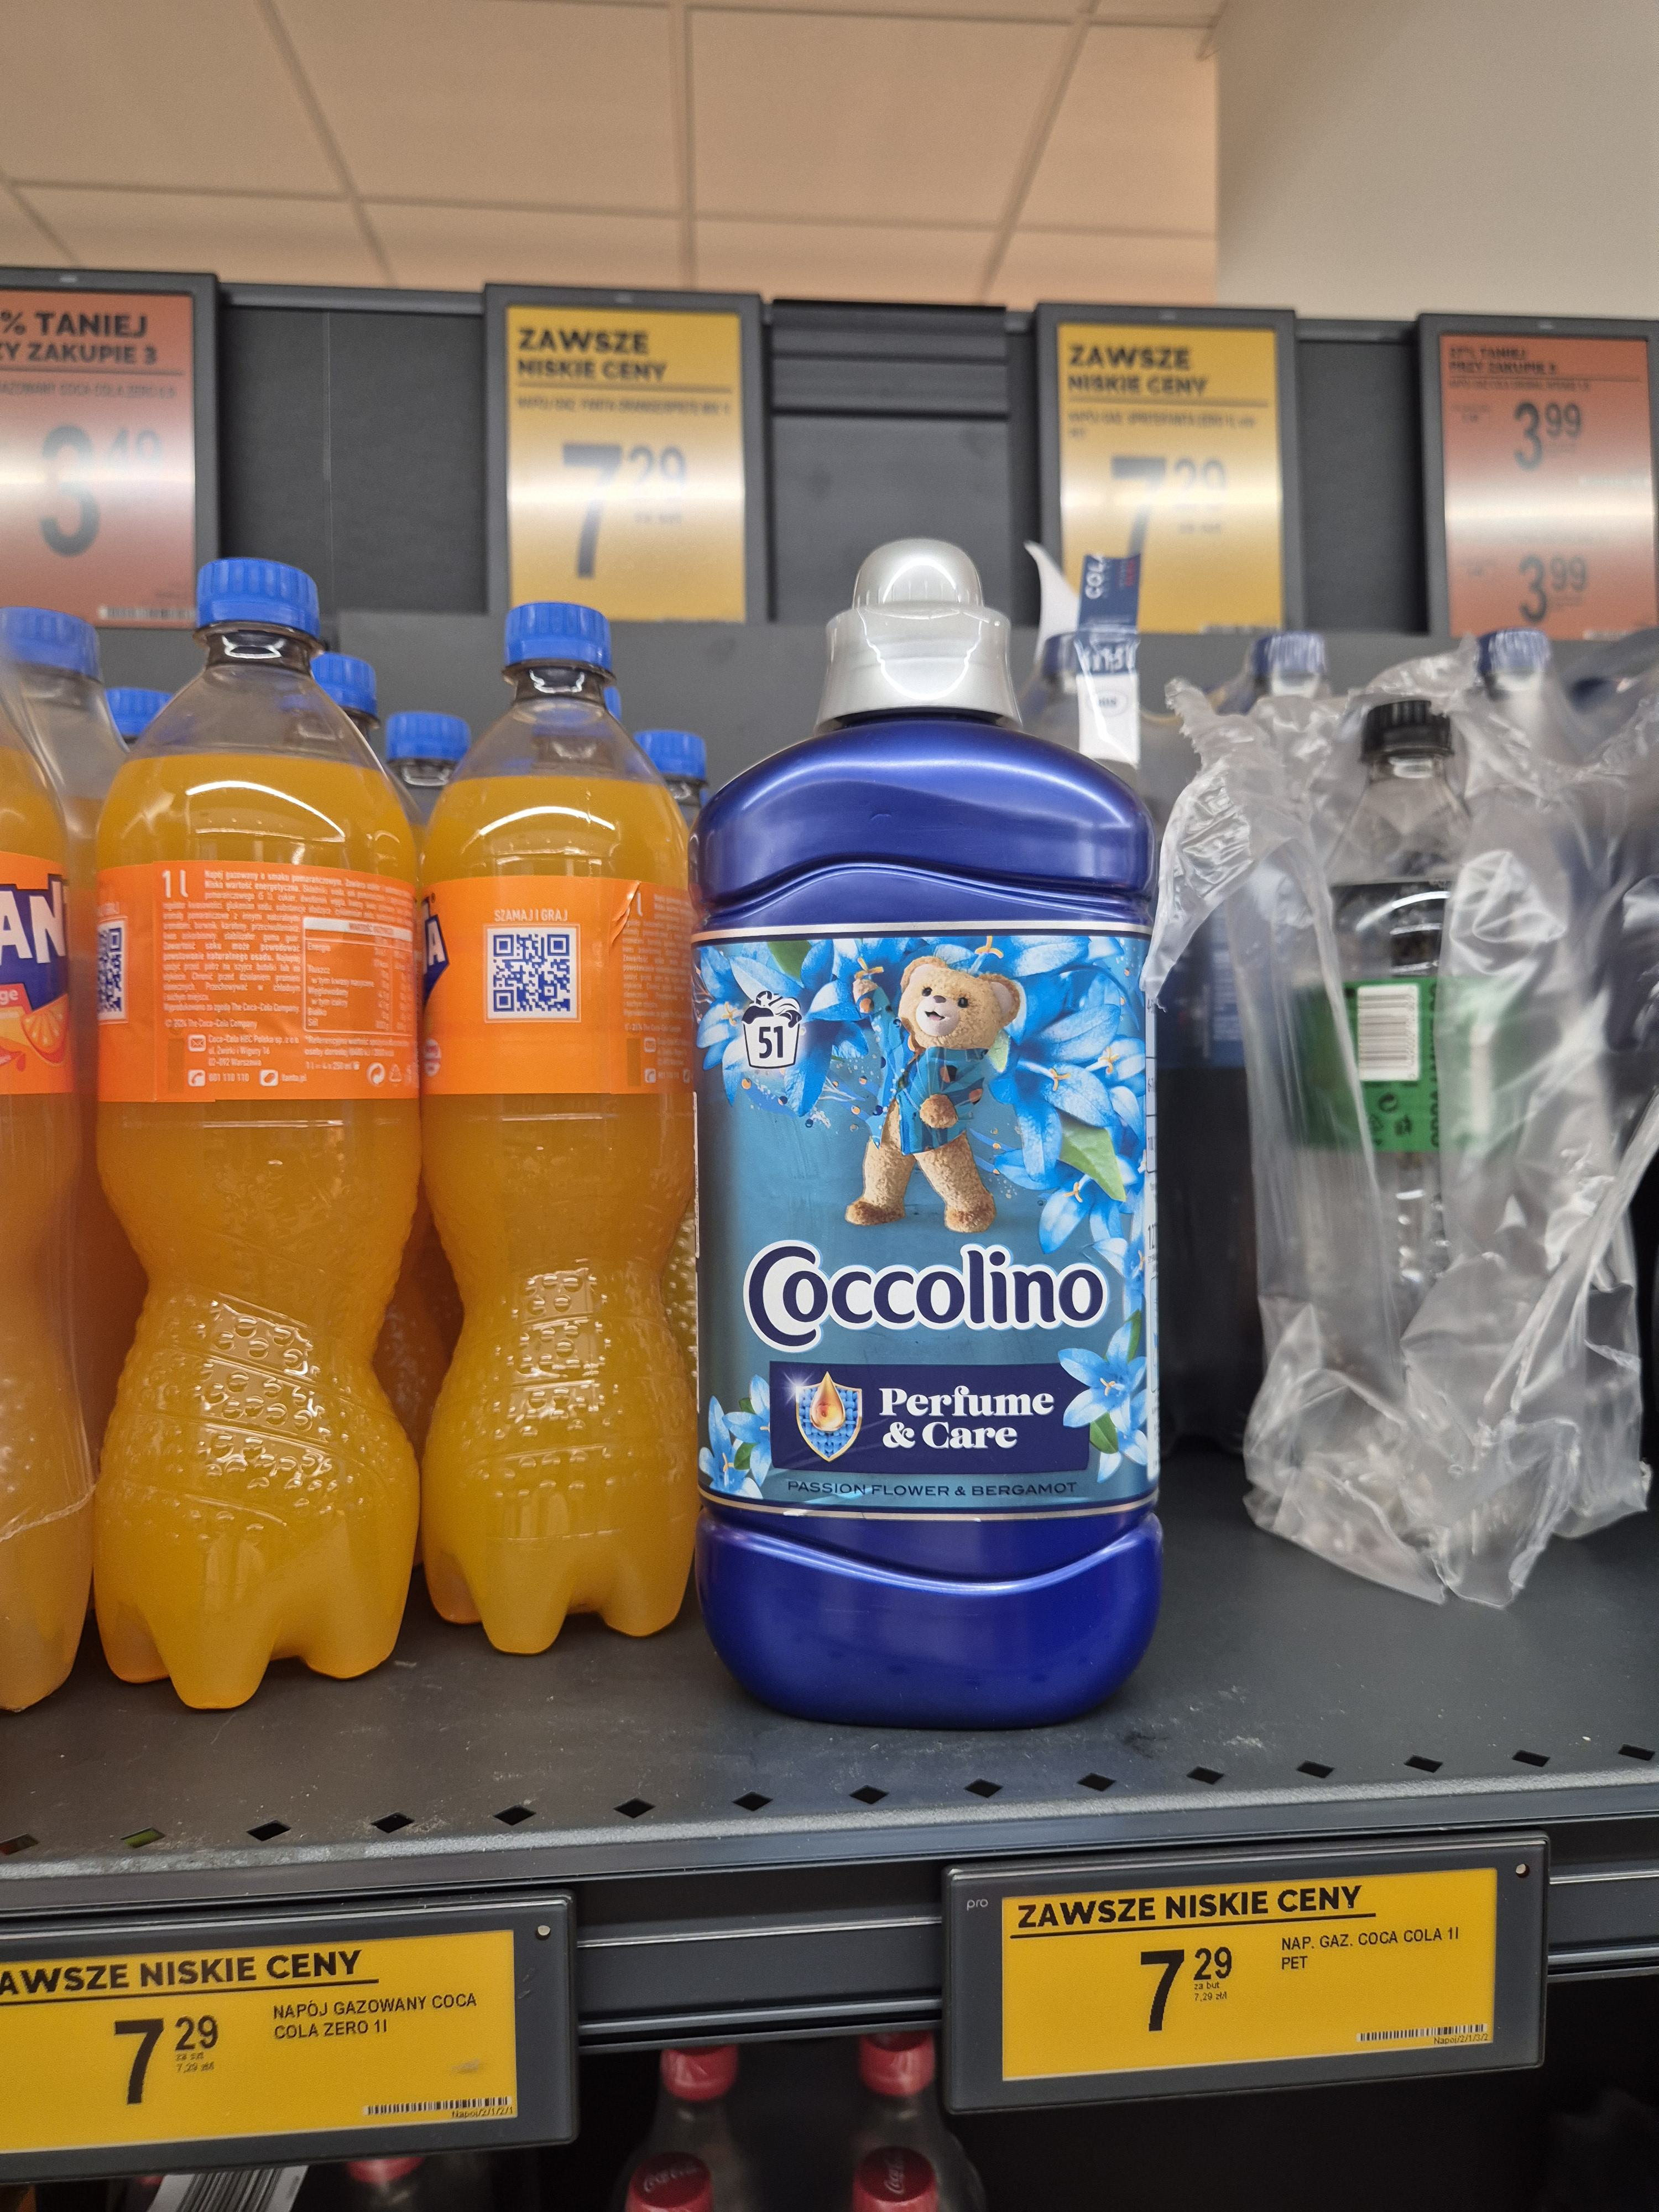cocolino: (683, 533, 1180, 1721)
